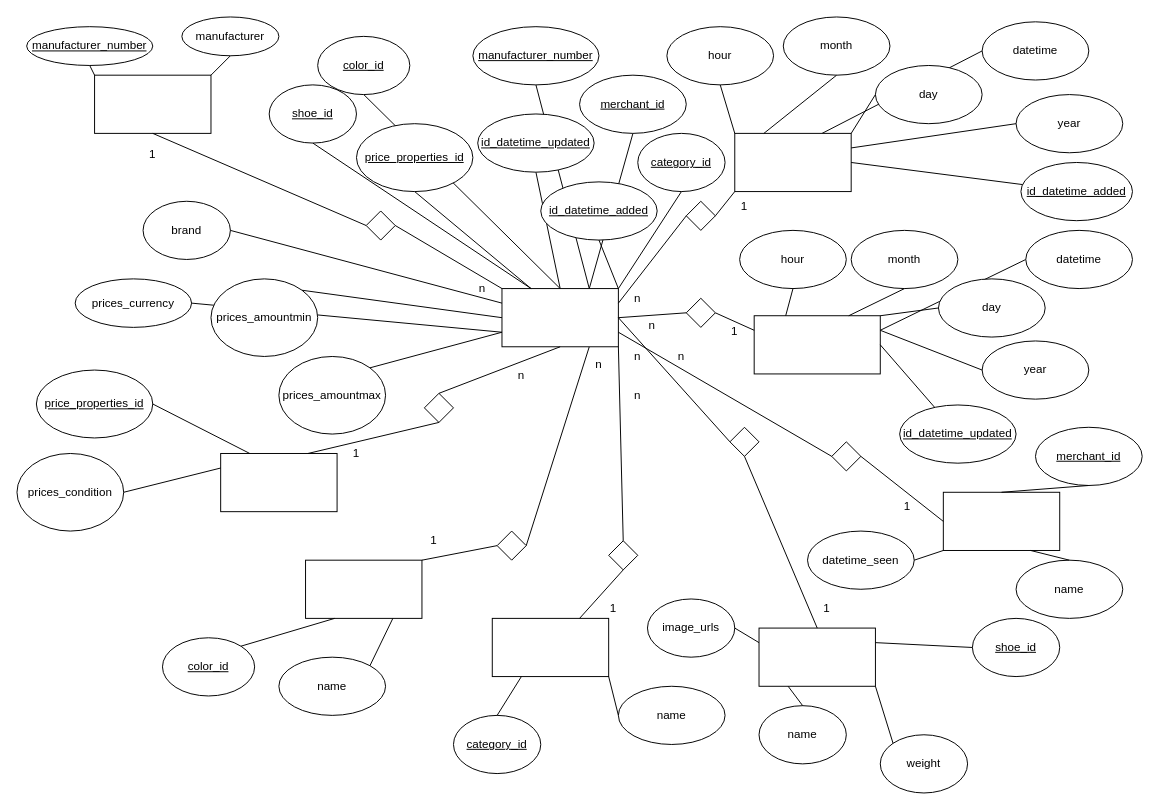
Image size: 1159x810. Some labels were removed from this diagram. The shapes that lost their labels are listed below. From the top down, each one's box as (x1, y1, x2, y2) in pixels, then its label:
(94, 74, 211, 133): dim_manufacturers
(734, 132, 851, 192): dim_datetime_added
(501, 288, 618, 347): fact_prices
(753, 315, 880, 374): dim_datetime_updated
(220, 453, 337, 512): dim_price_properties
(942, 491, 1060, 550): dim_merchants
(305, 559, 422, 618): dim_colors
(491, 617, 609, 677): dim_categories
(758, 627, 875, 686): dim_shoes_key_data
